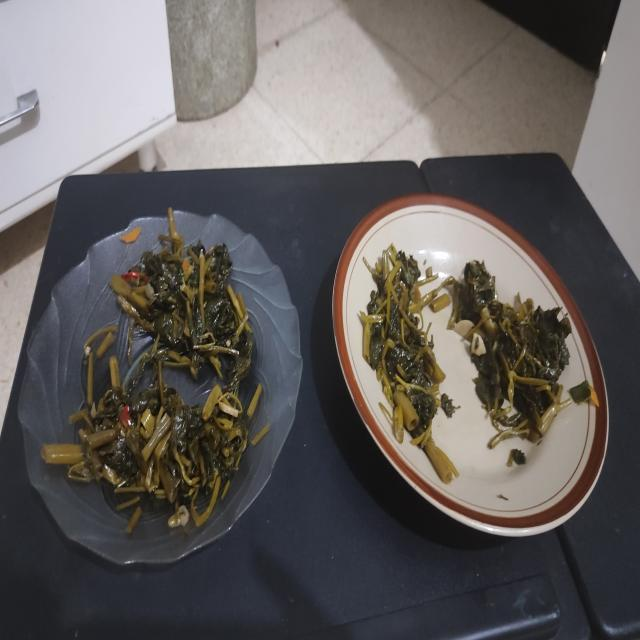tumis_kangkung: (42, 381, 262, 533), (110, 214, 252, 393), (448, 260, 571, 449), (361, 244, 458, 483)
